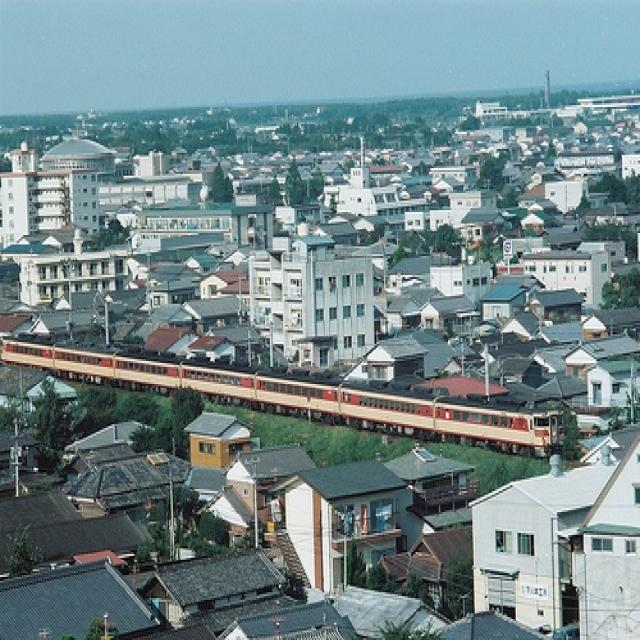train: (0, 334, 567, 462)
